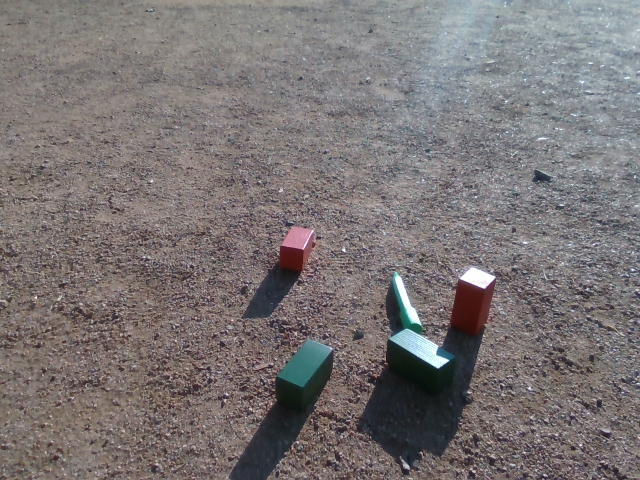Probe: (388, 272, 424, 331)
